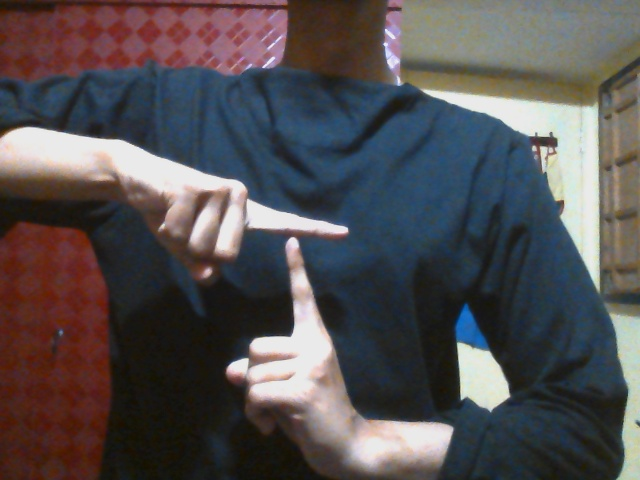T: (158, 169, 346, 454)
